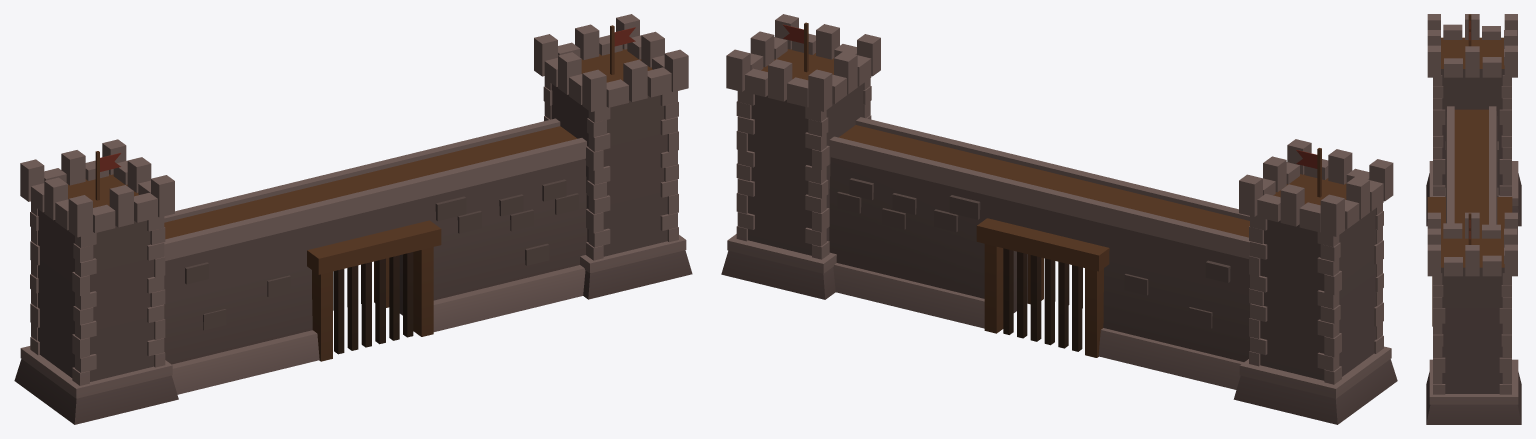
Rendered from gate-cendre.glb.
The picture shows the model from 3 angles, left to right: view 1: azimuth 30°, elevation 25°; view 2: azimuth 150°, elevation 25°; view 3: azimuth 270°, elevation 25°; orthographic projection. The views are drawn at different scales.
Parts seen in each view (by area): view 1: gate:cendre; view 2: gate:cendre; view 3: gate:cendre.
Part boxes in pixels (x1,y1,x2,y2): gate:cendre: (14,14,692,424); gate:cendre: (721,14,1397,424); gate:cendre: (1426,14,1521,424).
Size of the model in its own units: 13 by 4.85 by 2.19.
